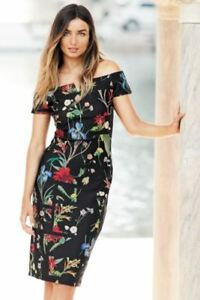C_dress: (21, 72, 129, 263)
